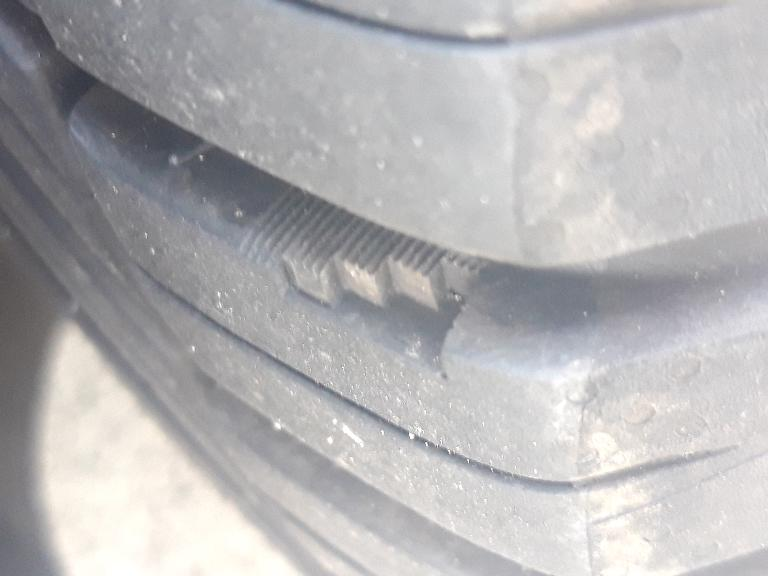temoin:80: (224, 174, 509, 392)
